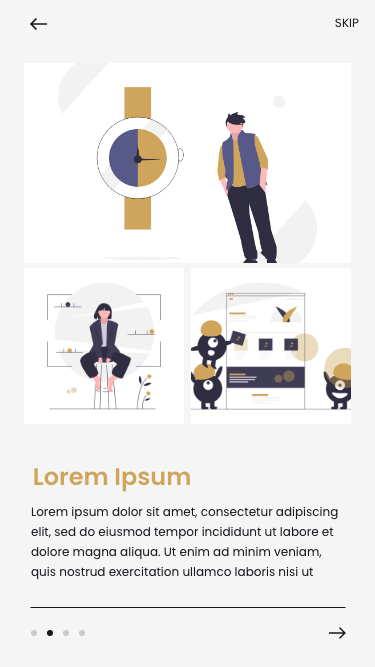Icon: (329, 627, 347, 640), (30, 18, 48, 31)
Image: (25, 64, 352, 424)
PageIndicator: (32, 629, 87, 637)
Text: (32, 507, 339, 580), (34, 467, 191, 492), (335, 18, 359, 28)
